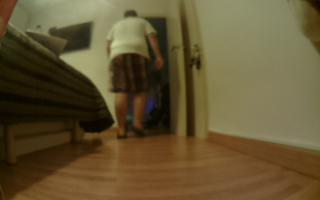person: (101, 9, 168, 141)
